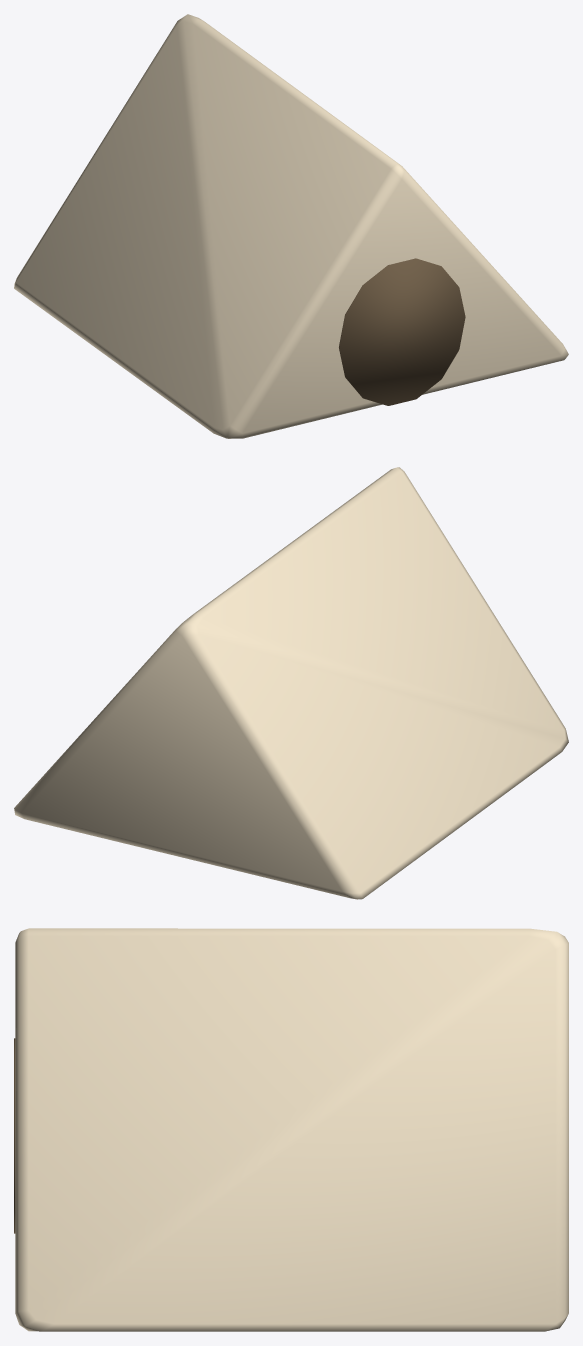
The model's file is tent.glb.
The picture shows the model from 3 angles, top to bottom: view 1: azimuth 30°, elevation 25°; view 2: azimuth 150°, elevation 25°; view 3: azimuth 270°, elevation 25°; orthographic projection. The views are drawn at different scales.
Visible parts, largest first — view 1: Tent_Canvas, Tent_Door; view 2: Tent_Canvas; view 3: Tent_Canvas.
Boxes of the visible parts, x1,y1,x2,y2 form: Tent_Canvas: (14,14,568,438); Tent_Door: (339,258,465,405); Tent_Canvas: (14,467,568,899); Tent_Canvas: (15,928,568,1331).
Size of the model in its own units: 0.6063 by 0.3928 by 0.6615.
